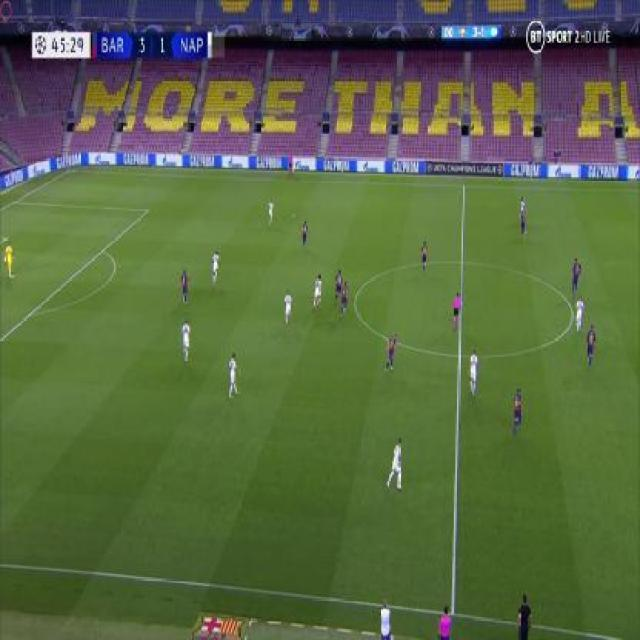ball: (293, 211, 296, 219)
player: (386, 437, 405, 493), (226, 350, 240, 399), (468, 345, 481, 396), (511, 386, 524, 435), (585, 322, 598, 370), (385, 331, 398, 373), (181, 315, 192, 363), (570, 256, 583, 296), (574, 293, 587, 333), (178, 267, 191, 304), (4, 239, 15, 279), (312, 273, 323, 313), (282, 286, 293, 325), (210, 248, 221, 287), (519, 193, 527, 238), (333, 267, 342, 307), (452, 290, 461, 330), (341, 278, 349, 317), (266, 195, 275, 226), (420, 239, 428, 273), (301, 217, 309, 248), (288, 152, 294, 180)
